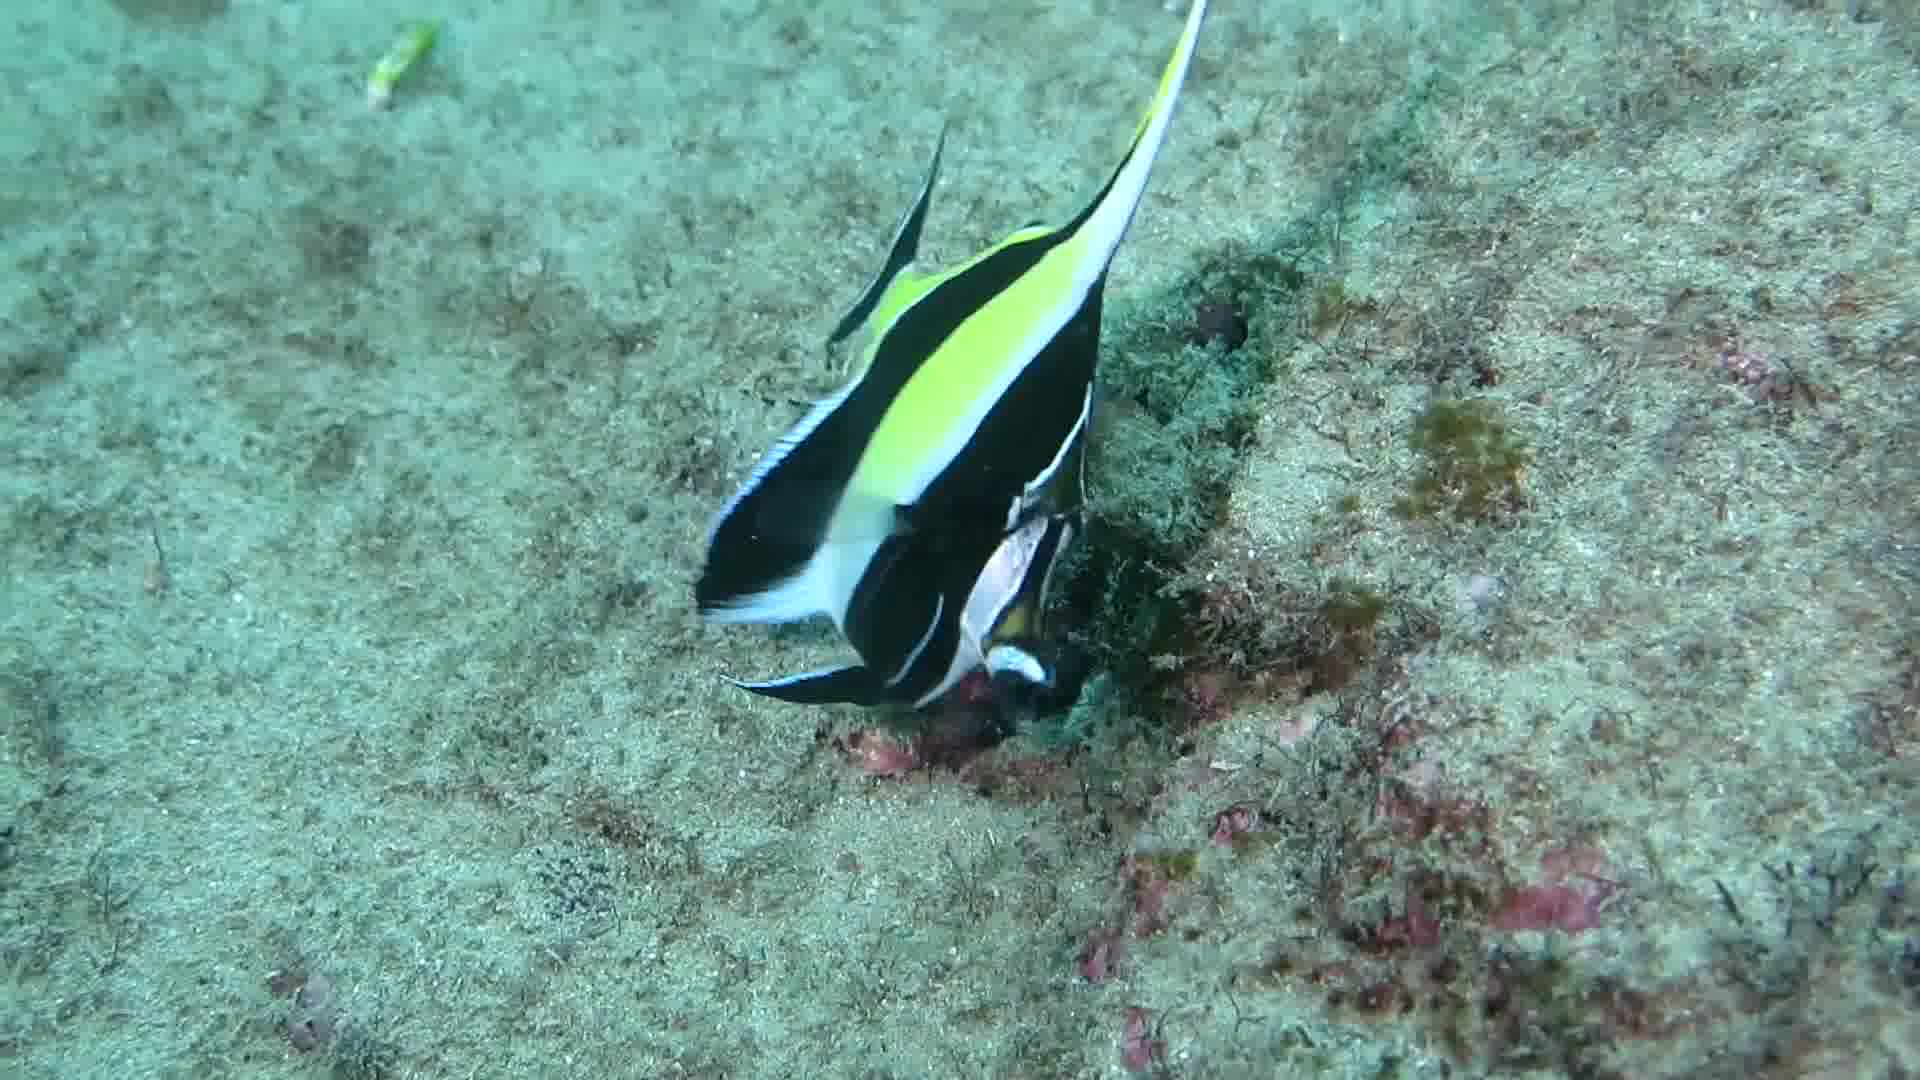Zanclus cornutus: (588, 194, 1353, 819)
